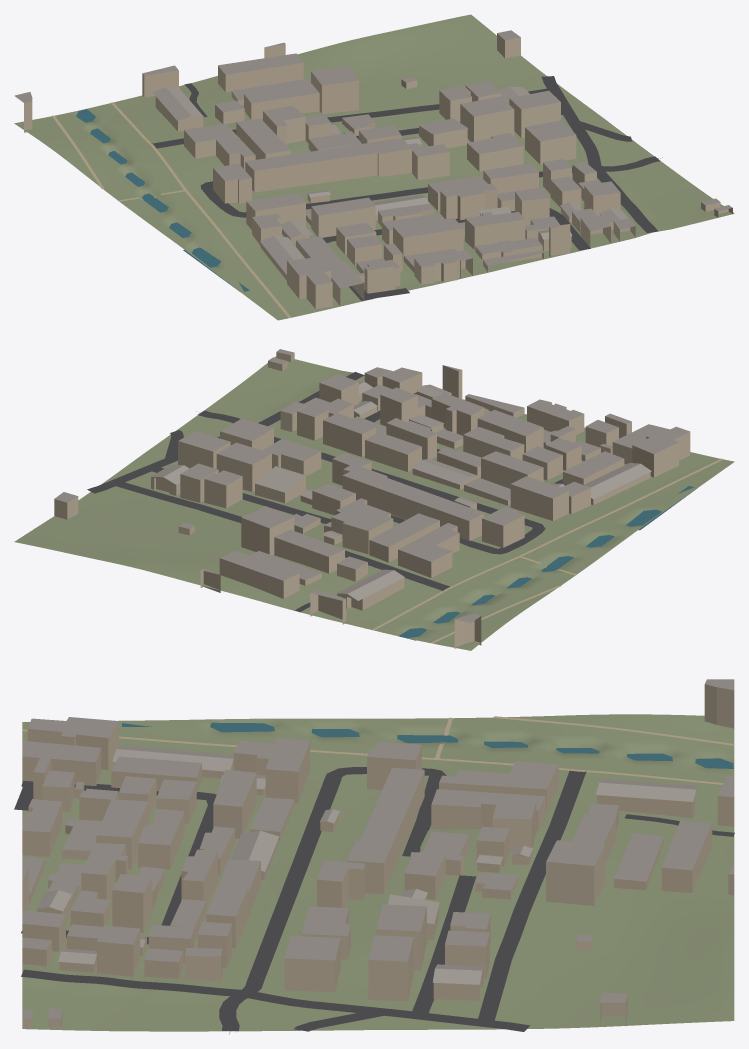
3 views of the same model, one above another, from view 1: azimuth 30°, elevation 25°; view 2: azimuth 150°, elevation 25°; view 3: azimuth 270°, elevation 25° (orthographic). The views are drawn at different scales.
Visible parts, largest first — view 1: ground, walls, roofs, road, sheetRoofs, water, path; view 2: ground, walls, roofs, road, sheetRoofs, water, path; view 3: ground, walls, roofs, road, sheetRoofs, water, path.
Part boxes in pixels (bbox=[...]): ground: bbox=[14, 14, 734, 320]; walls: bbox=[24, 33, 732, 308]; roofs: bbox=[14, 30, 732, 288]; road: bbox=[151, 76, 662, 300]; sheetRoofs: bbox=[152, 86, 628, 274]; water: bbox=[76, 109, 249, 291]; path: bbox=[52, 102, 291, 317]; ground: bbox=[14, 356, 734, 650]; walls: bbox=[54, 352, 690, 648]; roofs: bbox=[54, 349, 689, 622]; road: bbox=[87, 372, 565, 612]; sheetRoofs: bbox=[151, 381, 651, 600]; water: bbox=[398, 486, 697, 640]; path: bbox=[372, 458, 723, 643]; ground: bbox=[22, 714, 734, 1031]; walls: bbox=[22, 684, 734, 1027]; roofs: bbox=[22, 679, 734, 1019]; road: bbox=[14, 767, 734, 1034]; sheetRoofs: bbox=[36, 745, 699, 984]; water: bbox=[122, 722, 733, 768]; path: bbox=[22, 716, 734, 784].
Size of the model in its own units: 254 by 19.97 by 253.
